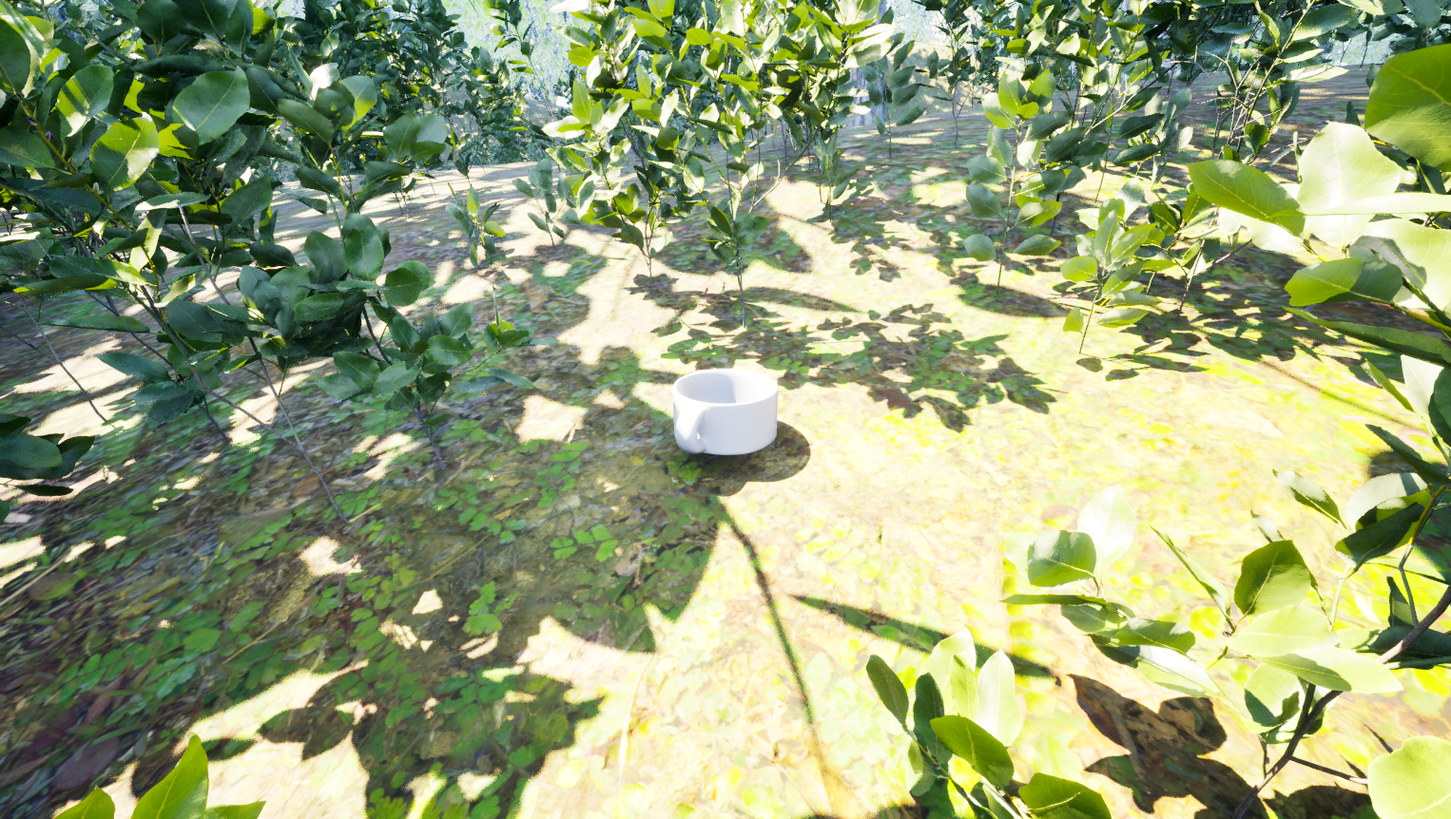Teacup: (643, 364, 799, 468)
